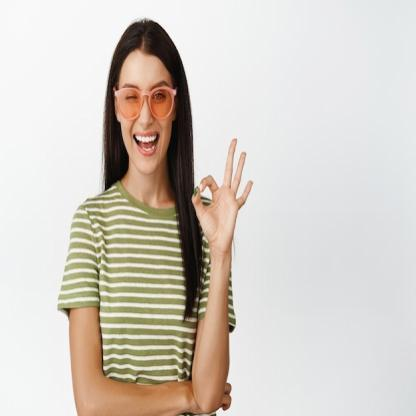ok: (190, 135, 254, 251)
